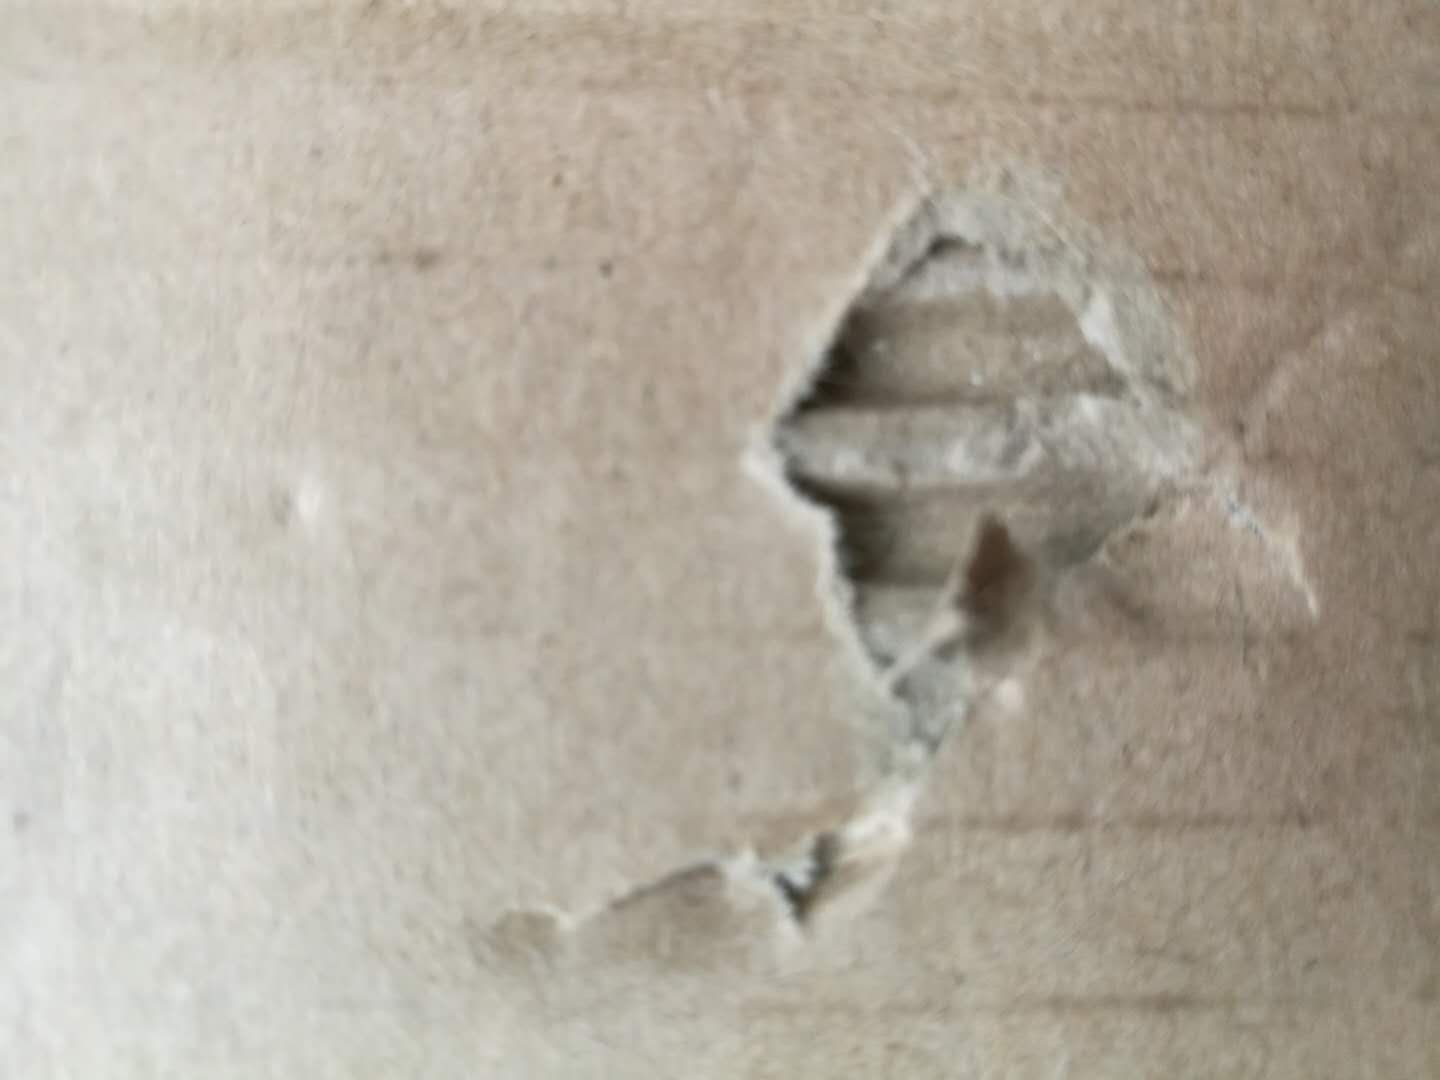defect: (420, 121, 1357, 1019)
